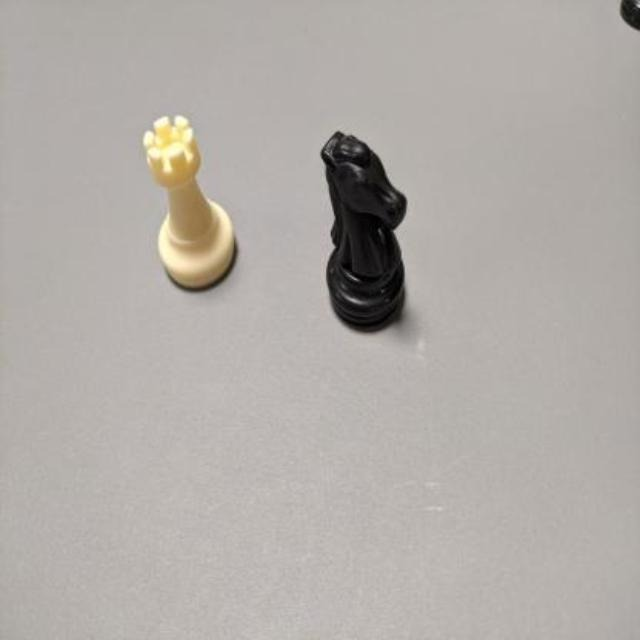black-knight: (320, 131, 407, 329)
white-rook: (144, 115, 236, 288)
